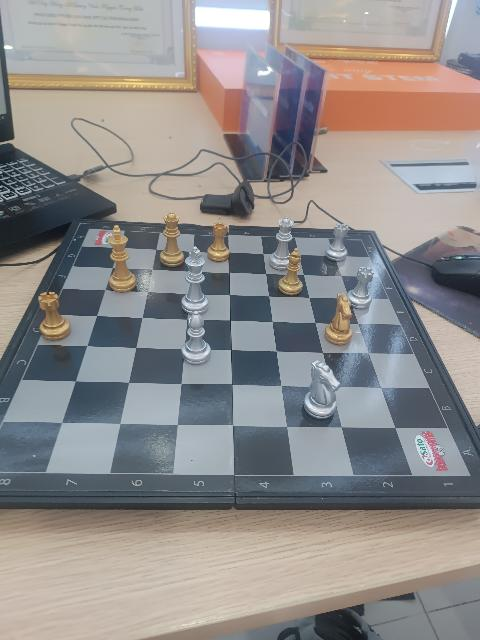black_bishop: (280, 247, 305, 298)
black_king: (108, 225, 137, 294)
black_knight: (324, 293, 354, 346)
black_queen: (159, 211, 184, 265)
black_rook: (36, 291, 72, 343), (206, 220, 231, 264)
white_bishop: (182, 311, 211, 366)
white_king: (183, 245, 209, 314)
white_knight: (300, 358, 342, 422)
white_queen: (271, 215, 292, 271)
white_rook: (348, 265, 376, 309), (324, 222, 351, 262)
